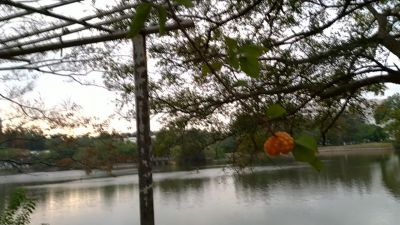eggs: (262, 130, 295, 157)
